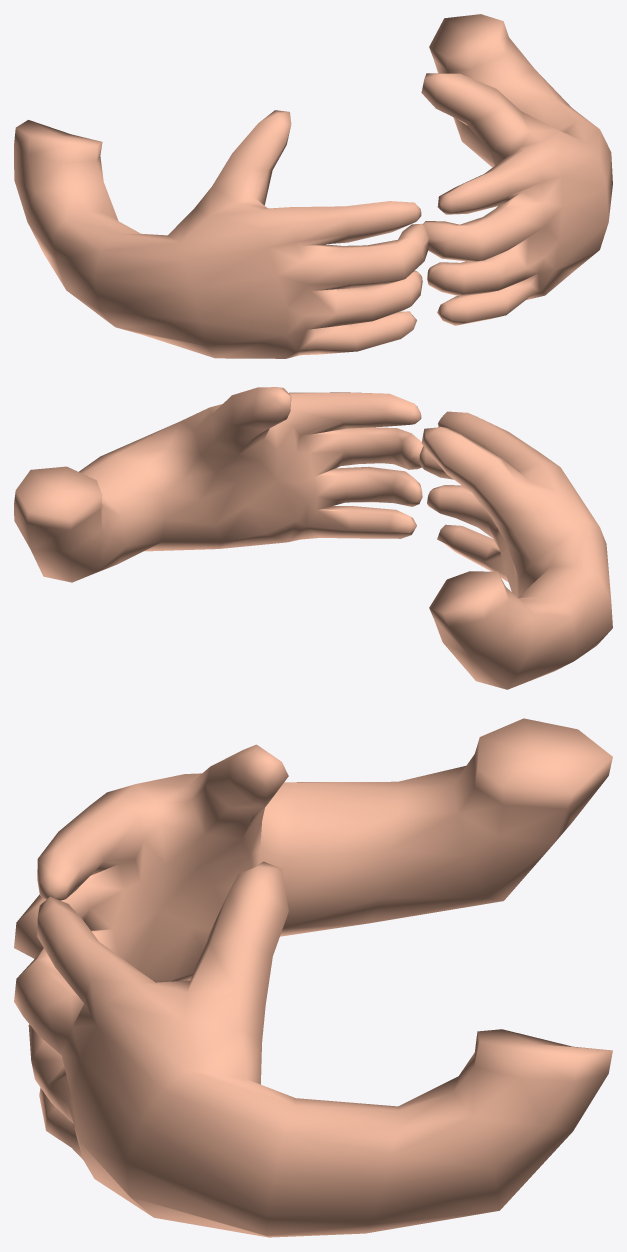
File: AF_M_Arm_06_c.FBX
The picture shows the model from 3 angles, top to bottom: view 1: azimuth 30°, elevation 25°; view 2: azimuth 150°, elevation 25°; view 3: azimuth 270°, elevation 25°; orthographic projection. The views are drawn at different scales.
Visible parts, largest first — view 1: AF_M_Arm_06; view 2: AF_M_Arm_06; view 3: AF_M_Arm_06.
Part boxes in pixels (bbox=[...]): AF_M_Arm_06: bbox=[14, 14, 612, 358]; AF_M_Arm_06: bbox=[14, 387, 612, 689]; AF_M_Arm_06: bbox=[14, 718, 612, 1237].
Bounding box in the file's own units: 486 × 177 × 335.
Materials: 1 (1 with a texture image).
